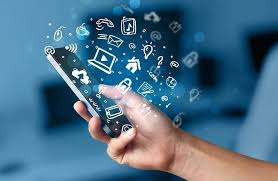phone: (35, 37, 127, 141)
